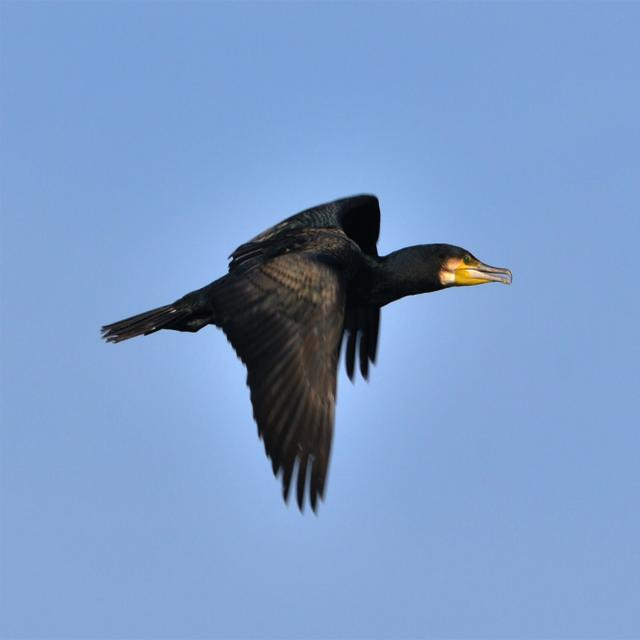bird: (50, 147, 562, 526)
